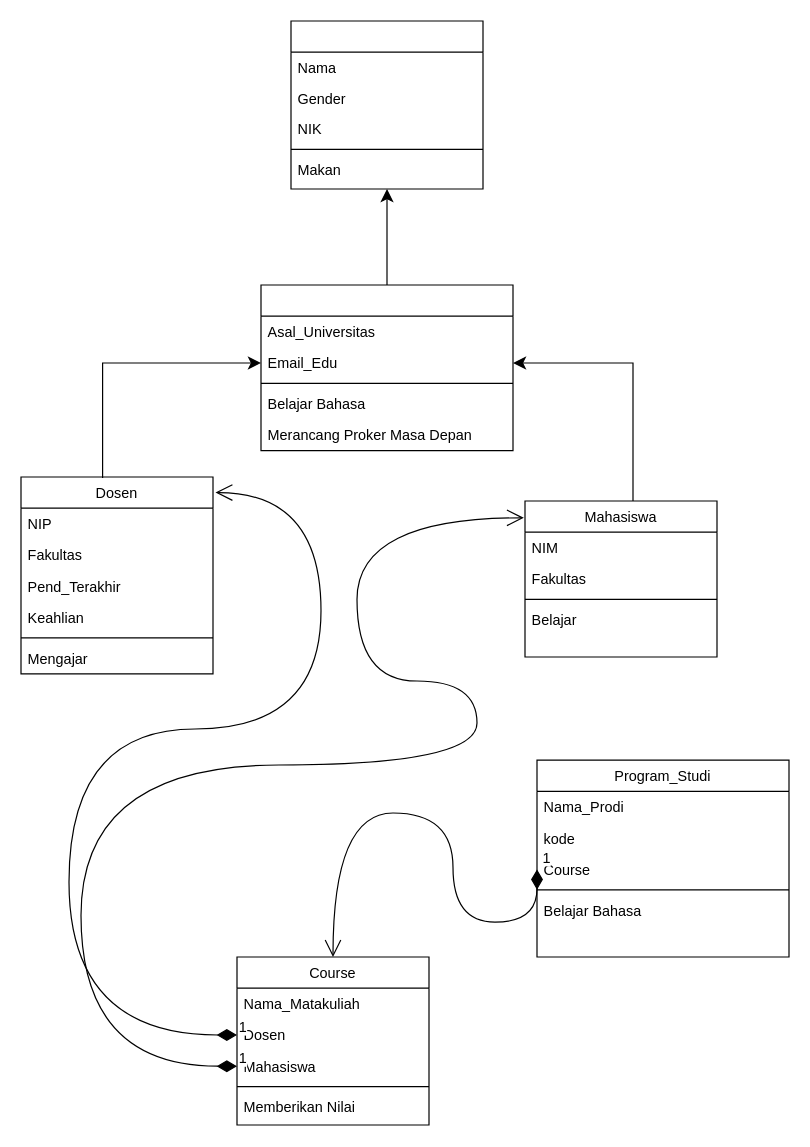
Some shapes in this 810 by 1147 pixel diagram are drawn without their labels. Here are the shapes that lost their labels. From the top down, the box of each, then its label:
(290, 20, 483, 189): Human
(260, 284, 513, 451): Sivitas_Akademik
